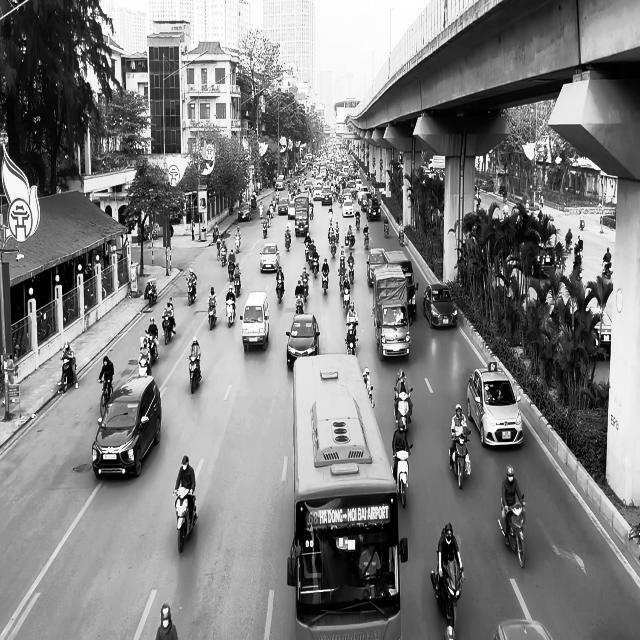bus: (286, 352, 408, 640)
car: (91, 374, 162, 479), (466, 362, 524, 448), (285, 313, 320, 370), (240, 291, 270, 353), (574, 308, 612, 356), (422, 283, 458, 329), (366, 247, 388, 288), (259, 242, 279, 272), (238, 202, 251, 221)
motorbike: (430, 565, 464, 639), (498, 495, 526, 568), (173, 486, 198, 553), (392, 444, 412, 508), (450, 431, 470, 489), (58, 356, 78, 394), (187, 354, 202, 394), (98, 377, 113, 416), (144, 330, 159, 363), (162, 315, 175, 345), (145, 279, 157, 306), (225, 298, 236, 327), (207, 300, 217, 330), (186, 277, 196, 306), (276, 278, 284, 304), (602, 260, 612, 279)
